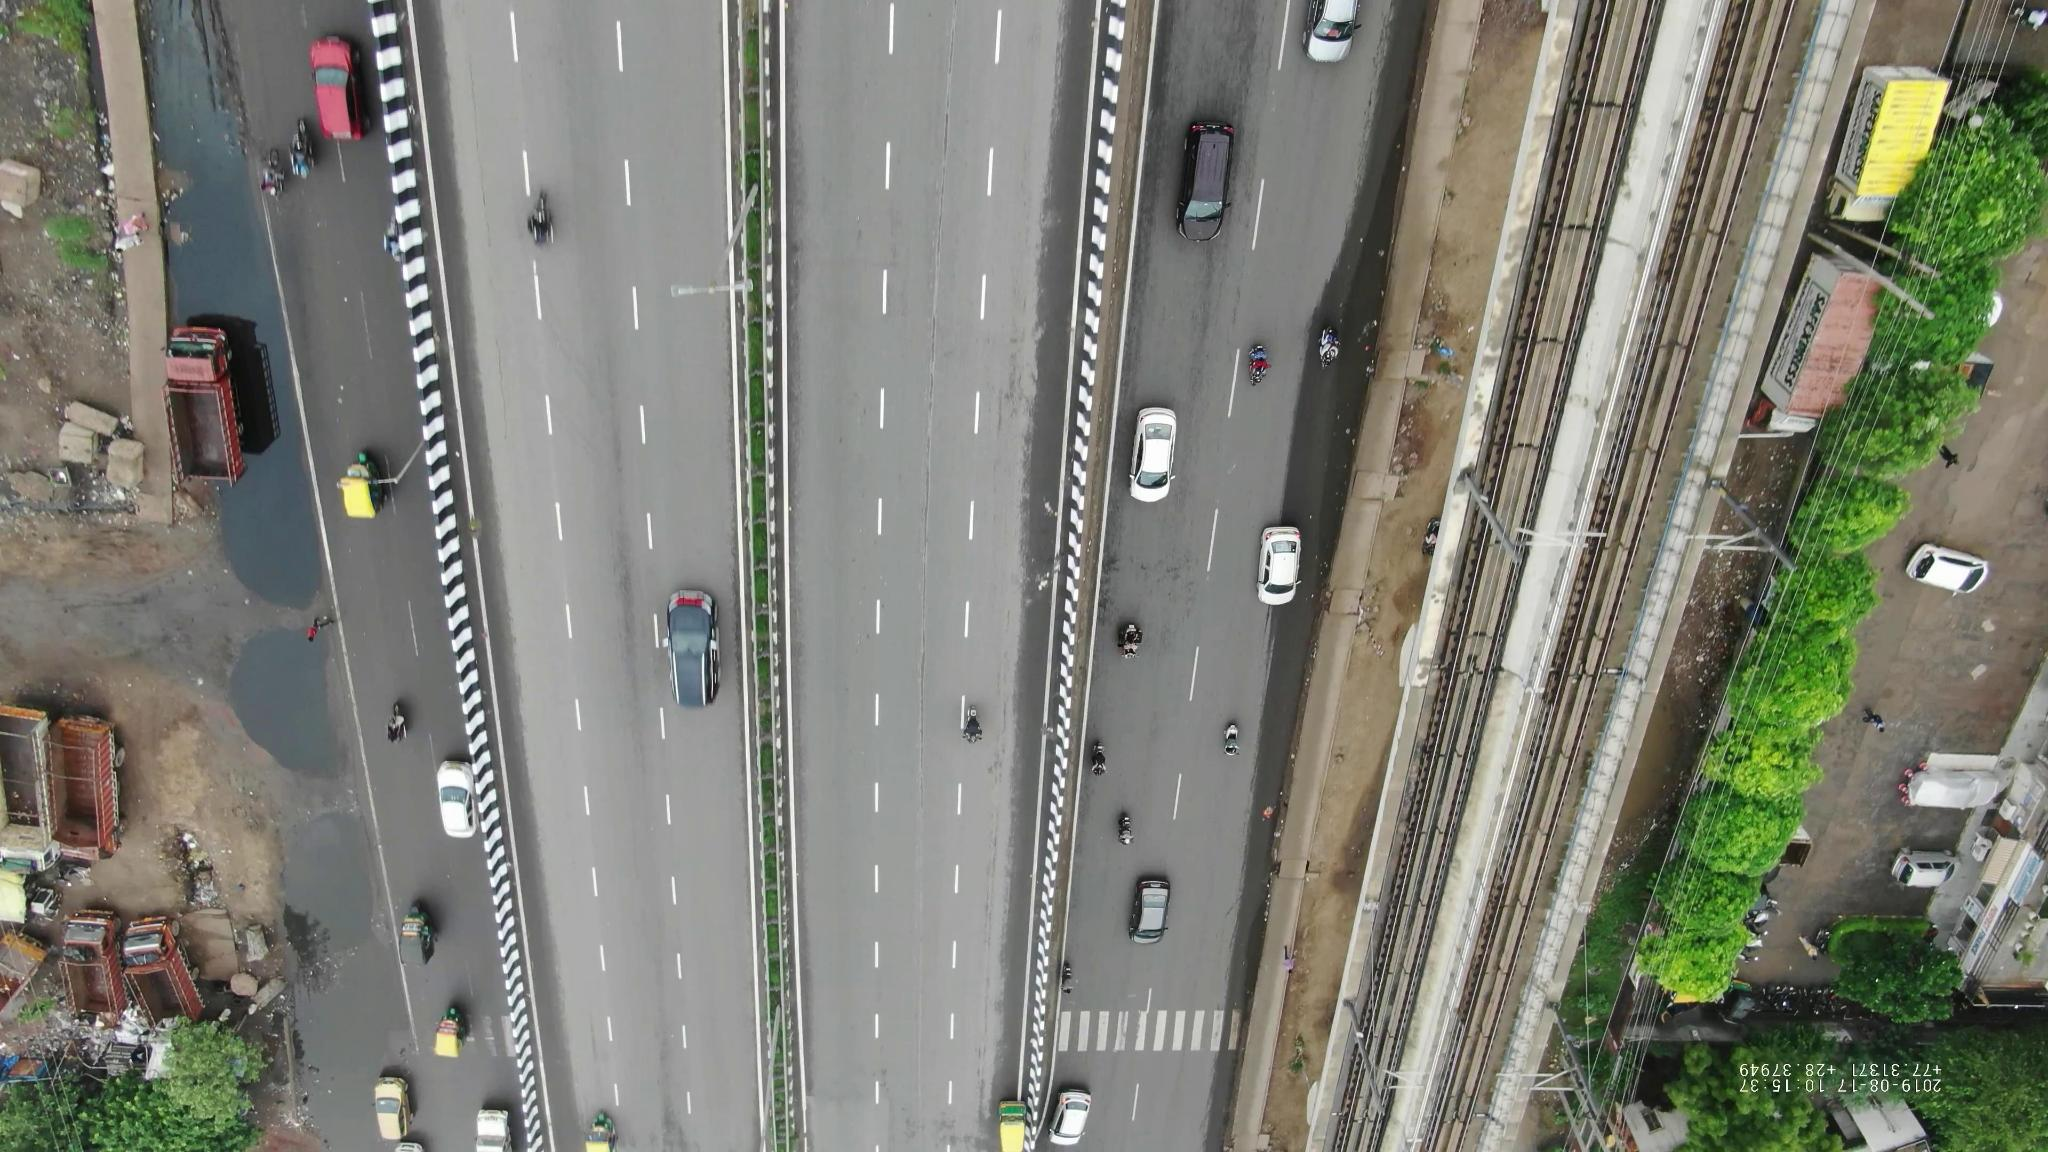Ravelling: (940, 23, 968, 219), (916, 568, 945, 753), (919, 408, 954, 558), (927, 236, 958, 385), (914, 767, 941, 845)
Waterlogging: (174, 163, 338, 577), (270, 827, 416, 1079), (226, 606, 371, 817)
